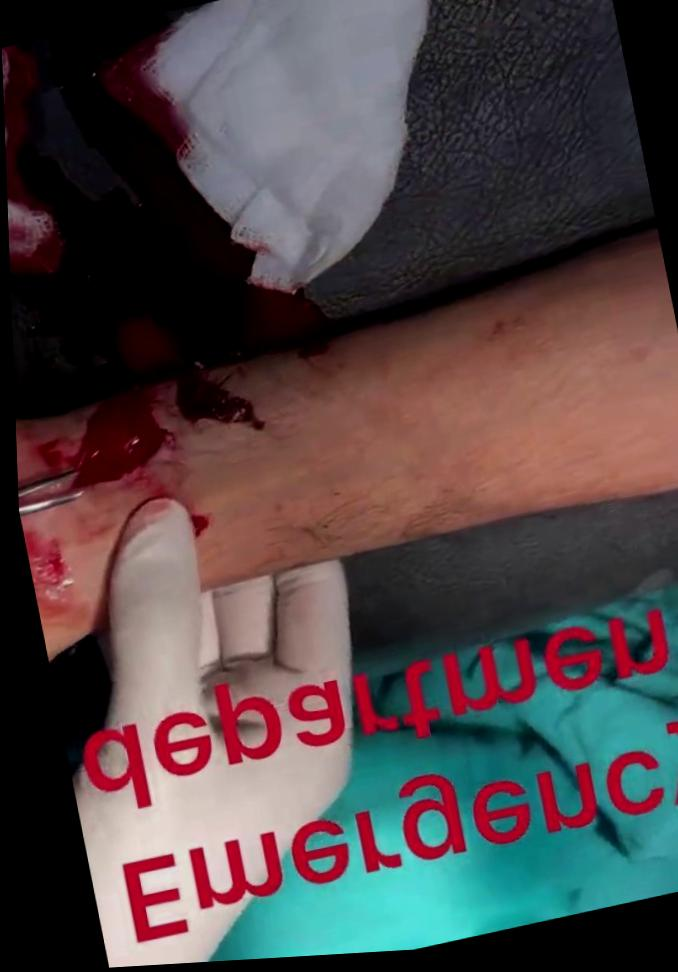Fire: (3, 9, 328, 514)
